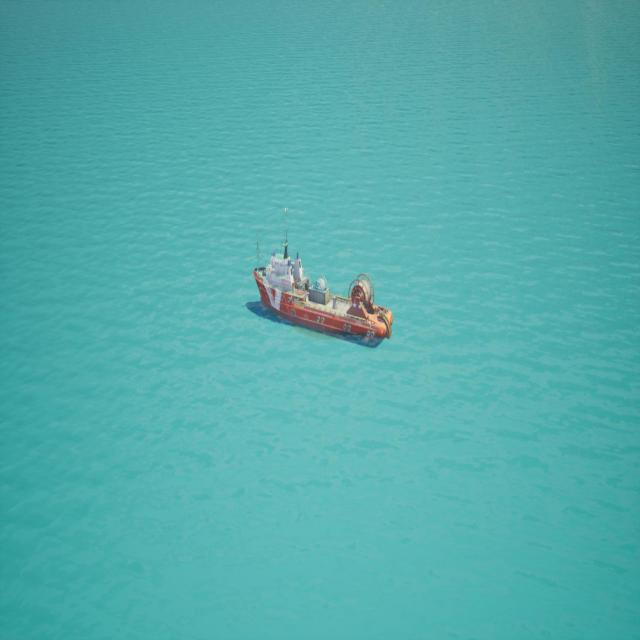tug boat: (243, 183, 423, 366)
